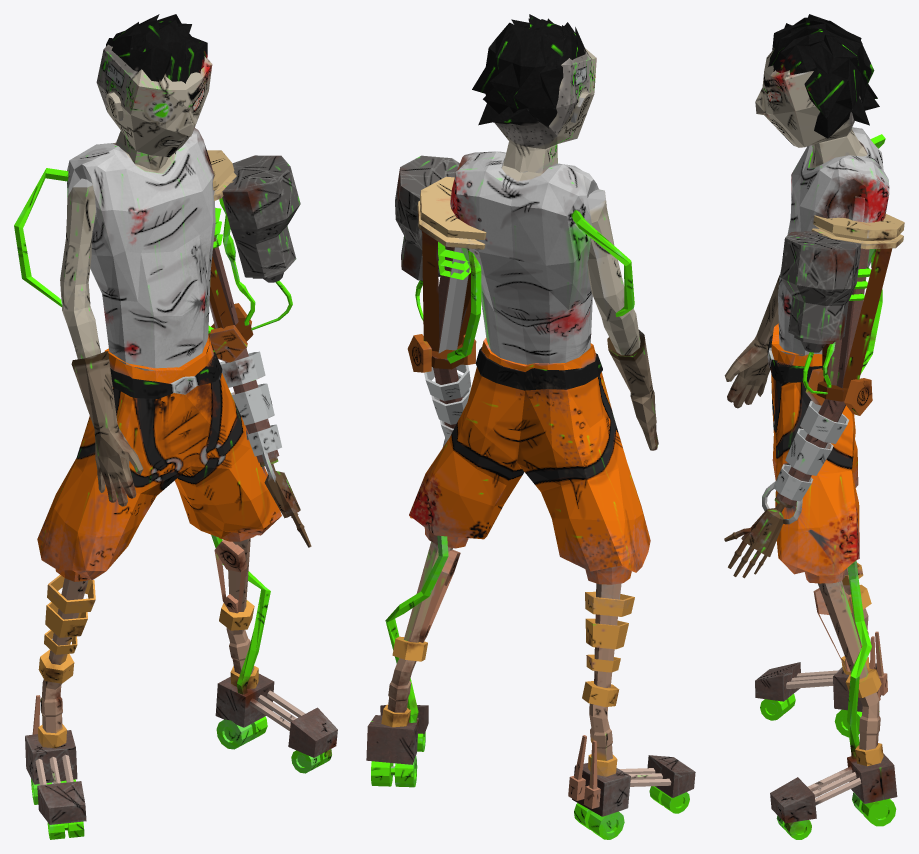
File: CyborgFINALAnimation_000041.obj
3 renders of one model, left to right at view 1: azimuth 30°, elevation 25°; view 2: azimuth 150°, elevation 25°; view 3: azimuth 270°, elevation 25°, orthographic. The views are drawn at different scales.
Parts seen in each view (by area): view 1: CyborgMesh_Cube.002; view 2: CyborgMesh_Cube.002; view 3: CyborgMesh_Cube.002.
Part boxes in pixels (x1=…): CyborgMesh_Cube.002: x1=14, y1=14, x2=337, y2=839; CyborgMesh_Cube.002: x1=366, y1=14, x2=695, y2=839; CyborgMesh_Cube.002: x1=724, y1=14, x2=904, y2=839.
Size of the model in its own units: 3.85 by 9.66 by 2.11.
